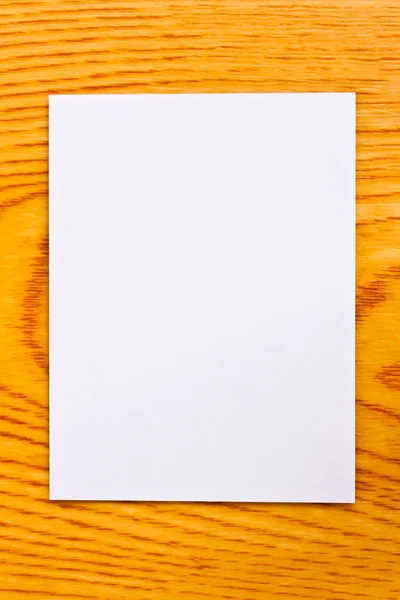page: (50, 93, 355, 500)
